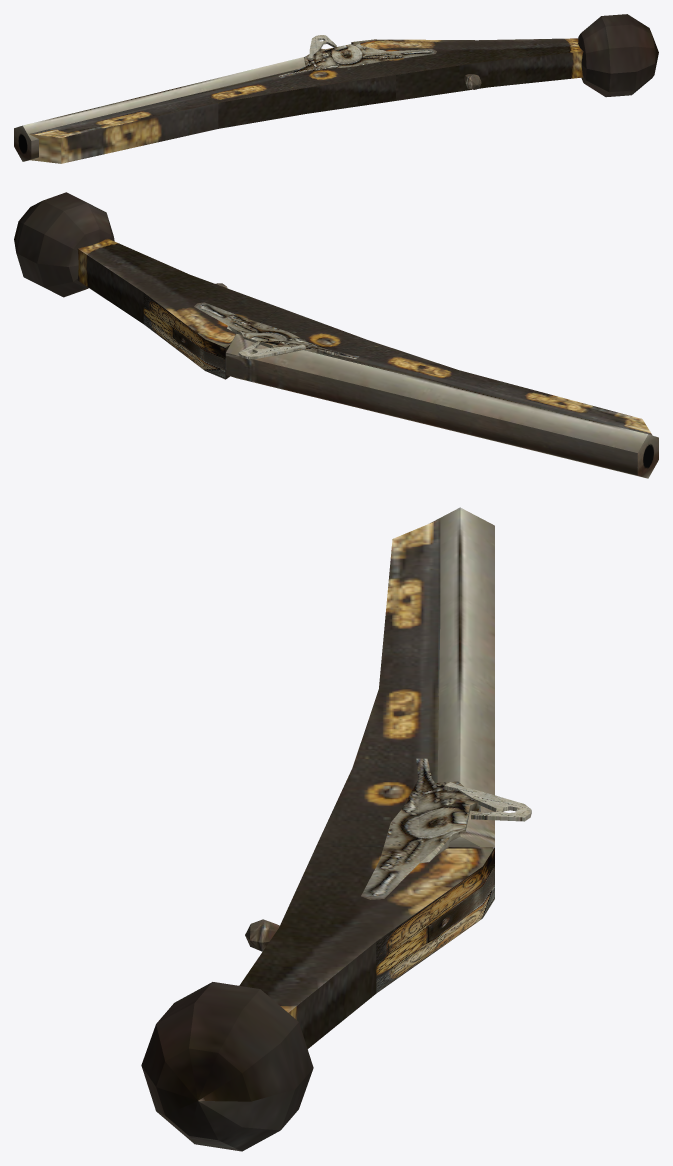
File: 1591_German_Wheellock.fbx
3 renders of one model, top to bottom at view 1: azimuth 30°, elevation 25°; view 2: azimuth 150°, elevation 25°; view 3: azimuth 270°, elevation 25°, orthographic. The views are drawn at different scales.
Parts seen in each view (by area): view 1: 1591_German_Wheellock, hamer; view 2: 1591_German_Wheellock, hamer; view 3: 1591_German_Wheellock, hamer.
Part boxes in pixels (left/top/right/bottom): 1591_German_Wheellock: left=14, top=14, right=658, bottom=163; hamer: left=308, top=35, right=336, bottom=59; 1591_German_Wheellock: left=14, top=192, right=658, bottom=478; hamer: left=238, top=341, right=305, bottom=359; 1591_German_Wheellock: left=141, top=507, right=494, bottom=1151; hamer: left=444, top=782, right=531, bottom=821.
Size of the model in its own units: 22.97 by 2.71 by 6.79.
